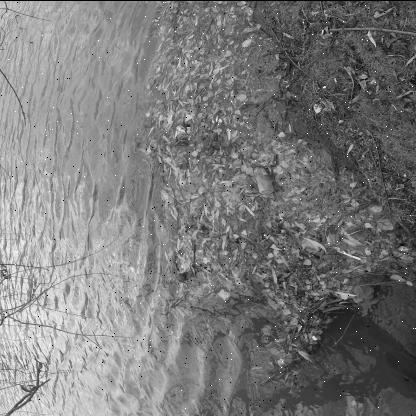other: (174, 124, 192, 146)
plastic: (254, 165, 274, 194)
